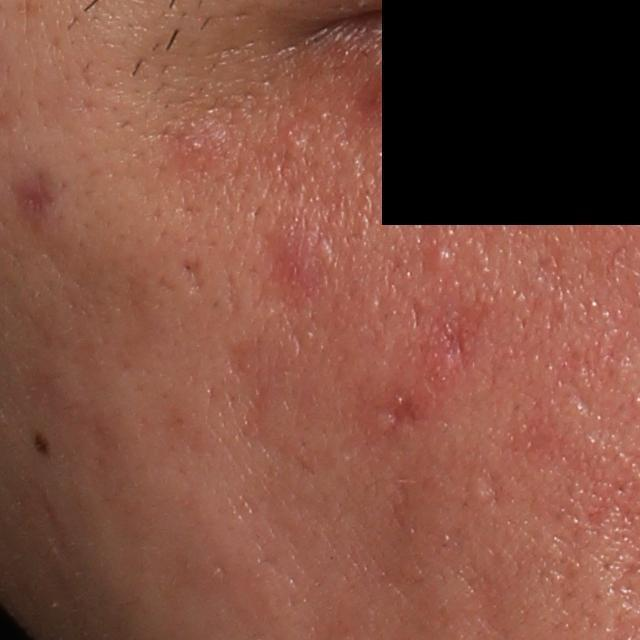atrophic_scar: (369, 385, 429, 439), (478, 461, 515, 516), (179, 255, 211, 303)
nevus: (31, 429, 54, 459)
